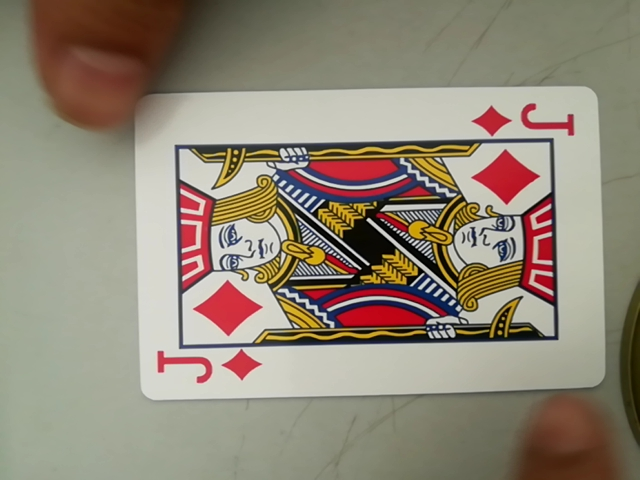fk j: (149, 342, 270, 395), (472, 100, 583, 139)
